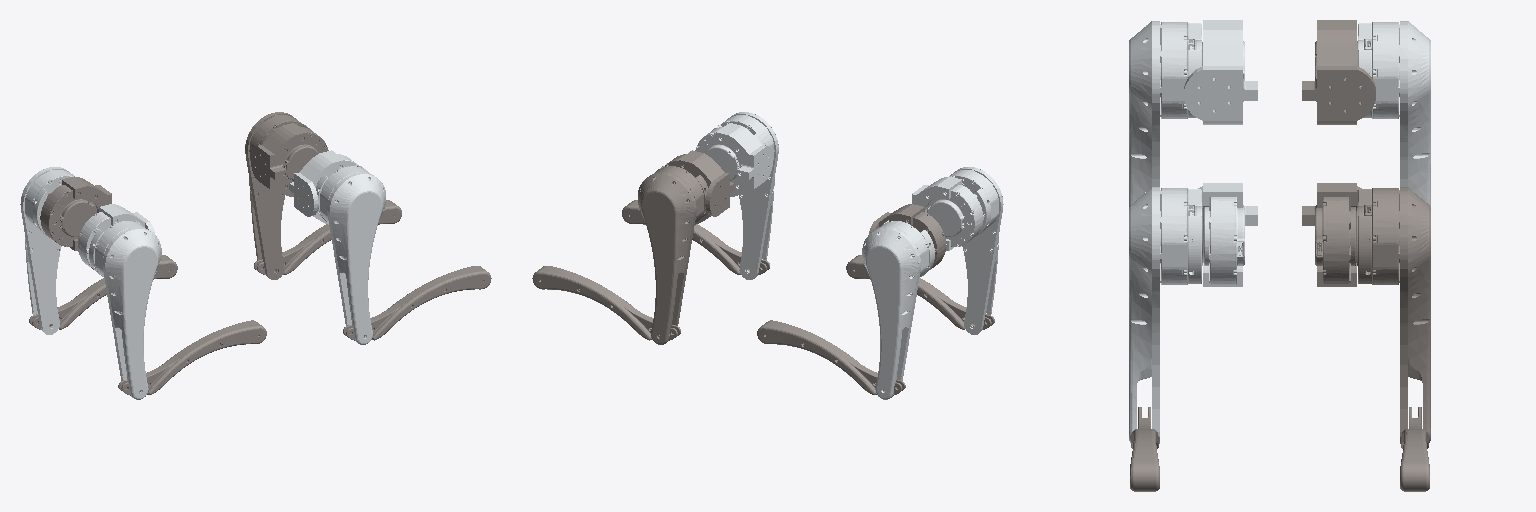
URDF robot description (Creeper):
<?xml version="1.0" encoding="utf-8"?>
<!-- This URDF was automatically created by SolidWorks to URDF Exporter!
     Modified: collision bodies → simplified primitives (Go2-style),
               joint limits/effort/velocity → Go2 motor specs,
               foot/calflower/IMU links added, axes standardized -->
<robot
  name="Creeper">
  <link
    name="base">
    <inertial>
      <origin
        xyz="-0.000212244414229981 3.88098070709172E-05 -0.0204792133764076"
        rpy="0 0 0" />
      <mass
        value="6" />
      <inertia
        ixx="0.012694"
        ixy="7.137E-08"
        ixz="2.603E-05"
        iyy="0.011597"
        iyz="4.755E-07"
        izz="0.017601" />
    </inertial>
    <visual>
      <origin
        xyz="0 0 0"
        rpy="0 0 0" />
      <geometry>
        <mesh
          filename="../meshes/base.stl" />
      </geometry>
      <material
        name="">
        <color
          rgba="0.643137254901961 0.615686274509804 0.6 1" />
      </material>
    </visual>
    <collision>
      <origin rpy="0 0 0" xyz="0 0 -0.01" />
      <geometry>
        <box size="0.27 0.16 0.15" />
      </geometry>
    </collision>
  </link>

  <!-- ===== IMU sensor link ===== -->
  <link
    name="imu">
    <inertial>
      <origin xyz="0 0 0" rpy="0 0 0" />
      <mass value="0" />
      <inertia ixx="0" ixy="0" ixz="0" iyy="0" iyz="0" izz="0" />
    </inertial>
  </link>
  <joint
    name="imu_joint"
    type="fixed">
    <origin xyz="-0.02557 0 0.04232" rpy="0 0 0" />
    <parent link="base" />
    <child link="imu" />
    <axis xyz="0 0 0" />
  </joint>

  <!-- ================================================================ -->
  <!--  FL (Front-Left) leg                                             -->
  <!-- ================================================================ -->
  <link
    name="FL_hip">
    <inertial>
      <origin
        xyz="0.038938 -0.0076948 -6.1766E-05"
        rpy="0 0 0" />
      <mass
        value="0.41199" />
      <inertia
        ixx="0.00036649"
        ixy="5.8308E-06"
        ixz="-3.3371E-07"
        iyy="0.0004868"
        iyz="1.4481E-07"
        izz="0.00024297" />
    </inertial>
    <visual>
      <origin xyz="0 0 0" rpy="0 0 0" />
      <geometry>
        <mesh filename="../meshes/FL_hip.stl" />
      </geometry>
      <material name="">
        <color rgba="0.64314 0.61569 0.6 1" />
      </material>
    </visual>
    <collision>
      <origin rpy="1.5707963267948966 0 0" xyz="0.058 0.03 0" />
      <geometry>
        <cylinder length="0.11" radius="0.049" />
      </geometry>
    </collision>
  </link>
  <joint
    name="FL_hip_joint"
    type="revolute">
    <origin xyz="0.13638 0.065071 -0.01" rpy="0 0 0" />
    <parent link="base" />
    <child link="FL_hip" />
    <axis xyz="1 0 0" />
    <limit lower="-1.0472" upper="1.0472" effort="23.7" velocity="30.1" />
  </joint>

  <link
    name="FL_thigh">
    <inertial>
      <origin
        xyz="-0.00174988623830744 0.0334141902325803 -0.0252666295856852"
        rpy="0 0 0" />
      <mass
        value="0.8" />
      <inertia
        ixx="0.001708"
        ixy="1.180E-06"
        ixz="-3.745E-05"
        iyy="0.002021"
        iyz="1.464E-05"
        izz="0.000352" />
    </inertial>
    <visual>
      <origin xyz="0 0 0" rpy="0 0 0" />
      <geometry>
        <mesh filename="../meshes/FL_thigh.stl" />
      </geometry>
      <material name="">
        <color rgba="0.643137254901961 0.615686274509804 0.6 1" />
      </material>
    </visual>
    <collision>
      <origin rpy="0 1.5707963267948966 0" xyz="-0.01 0.057 -0.12" />
      <geometry>
        <box size="0.15 0.0245 0.04" />
      </geometry>
    </collision>
  </link>
  <joint
    name="FL_thigh_joint"
    type="revolute">
    <origin xyz="0.058 0.0121 0" rpy="0 0 0" />
    <parent link="FL_hip" />
    <child link="FL_thigh" />
    <axis xyz="0 1 0" />
    <limit lower="-1.5708" upper="3.4907" effort="23.7" velocity="30.1" />
  </joint>

  <link
    name="FL_calf">
    <inertial>
      <origin
        xyz="0.00619697508153549 1.10070754946734E-06 -0.120177265320571"
        rpy="0 0 0" />
      <mass
        value="0.11765023931134" />
      <inertia
        ixx="0.000456282026796969"
        ixy="-4.88048522489851E-10"
        ixz="2.48213577761192E-05"
        iyy="0.00046039161098618"
        iyz="-4.52645247293018E-10"
        izz="1.51214343703459E-05" />
    </inertial>
    <visual>
      <origin xyz="0 0 0" rpy="0 0 0" />
      <geometry>
        <mesh filename="../meshes/FL_calf.stl" />
      </geometry>
      <material name="">
        <color rgba="0.643137254901961 0.615686274509804 0.6 1" />
      </material>
    </visual>
    <collision>
      <origin rpy="0 -0.21 0" xyz="0.005 0 -0.06" />
      <geometry>
        <cylinder length="0.12" radius="0.012" />
      </geometry>
    </collision>
  </link>
  <joint
    name="FL_calf_joint"
    type="revolute">
    <origin xyz="0 0.0568 -0.21" rpy="0 0 0" />
    <parent link="FL_thigh" />
    <child link="FL_calf" />
    <axis xyz="0 1 0" />
    <limit lower="-2.7227" upper="-0.83776" effort="23.7" velocity="30.1" />
  </joint>

  <!-- FL calflower (collision filler) -->
  <link name="FL_calflower">
    <collision>
      <origin rpy="0 0 0" xyz="-0.005 0 0" />
      <geometry>
        <cylinder length="0.065" radius="0.011" />
      </geometry>
    </collision>
  </link>
  <joint name="FL_calflower_joint" type="fixed">
    <origin xyz="0.020 0 -0.148" rpy="0 0.05 0" />
    <parent link="FL_calf" />
    <child link="FL_calflower" />
    <axis xyz="0 0 0" />
  </joint>

  <link name="FL_calflower1">
    <collision>
      <origin rpy="0 0 0" xyz="-0.002 0 0" />
      <geometry>
        <cylinder length="0.03" radius="0.012" />
      </geometry>
    </collision>
  </link>
  <joint name="FL_calflower1_joint" type="fixed">
    <origin xyz="-0.01 0 -0.04" rpy="0 0.48 0" />
    <parent link="FL_calflower" />
    <child link="FL_calflower1" />
    <axis xyz="0 0 0" />
  </joint>

  <!-- FL foot -->
  <link name="FL_foot">
    <inertial>
      <origin xyz="0 0 0" rpy="0 0 0" />
      <mass value="0.04" />
      <inertia ixx="9.6e-06" ixy="0" ixz="0" iyy="9.6e-06" iyz="0" izz="9.6e-06" />
    </inertial>
    <collision>
      <origin rpy="0 0 0" xyz="0 0 0.002" />
      <geometry>
        <sphere radius="0.015" />
      </geometry>
    </collision>
  </link>
  <joint name="FL_foot_joint" type="fixed" dont_collapse="true">
    <origin xyz="0 0 -0.213" rpy="0 0 0" />
    <parent link="FL_calf" />
    <child link="FL_foot" />
    <axis xyz="0 0 0" />
  </joint>

  <!-- ================================================================ -->
  <!--  FR (Front-Right) leg                                            -->
  <!-- ================================================================ -->
  <link
    name="FR_hip">
    <inertial>
      <origin
        xyz="0.0389378046069064 0.00769485521689287 3.05325849026677E-05"
        rpy="0 0 0" />
      <mass
        value="0.411991576514315" />
      <inertia
        ixx="0.000366492156844104"
        ixy="-5.83073526194676E-06"
        ixz="3.92121674248006E-07"
        iyy="0.000486798958292856"
        iyz="-8.35259867305297E-08"
        izz="0.000242970374822284" />
    </inertial>
    <visual>
      <origin xyz="0 0 0" rpy="0 0 0" />
      <geometry>
        <mesh filename="../meshes/FR_hip.stl" />
      </geometry>
      <material name="">
        <color rgba="0.898039215686275 0.917647058823529 0.929411764705882 1" />
      </material>
    </visual>
    <collision>
      <origin rpy="1.5707963267948966 0 0" xyz="0.058 -0.03 0" />
      <geometry>
        <cylinder length="0.11" radius="0.049" />
      </geometry>
    </collision>
  </link>
  <joint
    name="FR_hip_joint"
    type="revolute">
    <origin xyz="0.13638 -0.064929 -0.01" rpy="0 0 0" />
    <parent link="base" />
    <child link="FR_hip" />
    <axis xyz="1 0 0" />
    <limit lower="-1.0472" upper="1.0472" effort="23.7" velocity="30.1" />
  </joint>

  <link
    name="FR_thigh">
    <inertial>
      <origin
        xyz="-0.00167929248101809 -0.0334155612413641 -0.0252735252683833"
        rpy="0 0 0" />
      <mass
        value="0.8" />
      <inertia
        ixx="0.001708"
        ixy="-1.089E-06"
        ixz="-3.854E-05"
        iyy="0.002022"
        iyz="-1.464E-05"
        izz="0.000352" />
    </inertial>
    <visual>
      <origin xyz="0 0 0" rpy="0 0 0" />
      <geometry>
        <mesh filename="../meshes/FR_thigh.stl" />
      </geometry>
      <material name="">
        <color rgba="0.898039215686275 0.917647058823529 0.929411764705882 1" />
      </material>
    </visual>
    <collision>
      <origin rpy="0 1.5707963267948966 0" xyz="-0.01 -0.057 -0.12" />
      <geometry>
        <box size="0.15 0.0245 0.04" />
      </geometry>
    </collision>
  </link>
  <joint
    name="FR_thigh_joint"
    type="revolute">
    <origin xyz="0.058 -0.0121 0" rpy="0 0 0" />
    <parent link="FR_hip" />
    <child link="FR_thigh" />
    <axis xyz="0 1 0" />
    <limit lower="-1.5708" upper="3.4907" effort="23.7" velocity="30.1" />
  </joint>

  <link
    name="FR_calf">
    <inertial>
      <origin
        xyz="0.0061969726888931 -1.10377413931051E-06 -0.120177189257783"
        rpy="0 0 0" />
      <mass
        value="0.117650309222684" />
      <inertia
        ixx="0.0004562827679132"
        ixy="4.84662960928166E-10"
        ixz="2.48214041745979E-05"
        iyy="0.000460392352568572"
        iyz="4.76865574298572E-10"
        izz="1.51214350235062E-05" />
    </inertial>
    <visual>
      <origin xyz="0 0 0" rpy="0 0 0" />
      <geometry>
        <mesh filename="../meshes/FR_calf.stl" />
      </geometry>
      <material name="">
        <color rgba="0.643137254901961 0.615686274509804 0.6 1" />
      </material>
    </visual>
    <collision>
      <origin rpy="0 -0.21 0" xyz="0.005 0 -0.06" />
      <geometry>
        <cylinder length="0.12" radius="0.012" />
      </geometry>
    </collision>
  </link>
  <joint
    name="FR_calf_joint"
    type="revolute">
    <origin xyz="0 -0.0568 -0.21" rpy="0 0 0" />
    <parent link="FR_thigh" />
    <child link="FR_calf" />
    <axis xyz="0 1 0" />
    <limit lower="-2.7227" upper="-0.83776" effort="23.7" velocity="30.1" />
  </joint>

  <!-- FR calflower -->
  <link name="FR_calflower">
    <collision>
      <origin rpy="0 0 0" xyz="-0.005 0 0" />
      <geometry>
        <cylinder length="0.065" radius="0.011" />
      </geometry>
    </collision>
  </link>
  <joint name="FR_calflower_joint" type="fixed">
    <origin xyz="0.020 0 -0.148" rpy="0 0.05 0" />
    <parent link="FR_calf" />
    <child link="FR_calflower" />
    <axis xyz="0 0 0" />
  </joint>

  <link name="FR_calflower1">
    <collision>
      <origin rpy="0 0 0" xyz="-0.002 0 0" />
      <geometry>
        <cylinder length="0.03" radius="0.012" />
      </geometry>
    </collision>
  </link>
  <joint name="FR_calflower1_joint" type="fixed">
    <origin xyz="-0.01 0 -0.04" rpy="0 0.48 0" />
    <parent link="FR_calflower" />
    <child link="FR_calflower1" />
    <axis xyz="0 0 0" />
  </joint>

  <!-- FR foot -->
  <link name="FR_foot">
    <inertial>
      <origin xyz="0 0 0" rpy="0 0 0" />
      <mass value="0.04" />
      <inertia ixx="9.6e-06" ixy="0" ixz="0" iyy="9.6e-06" iyz="0" izz="9.6e-06" />
    </inertial>
    <collision>
      <origin rpy="0 0 0" xyz="0 0 0.002" />
      <geometry>
        <sphere radius="0.015" />
      </geometry>
    </collision>
  </link>
  <joint name="FR_foot_joint" type="fixed" dont_collapse="true">
    <origin xyz="0 0 -0.213" rpy="0 0 0" />
    <parent link="FR_calf" />
    <child link="FR_foot" />
    <axis xyz="0 0 0" />
  </joint>

  <!-- ================================================================ -->
  <!--  RL (Rear-Left) leg                                              -->
  <!-- ================================================================ -->
  <link
    name="RL_hip">
    <inertial>
      <origin
        xyz="-0.038937810299973 -0.00769484868849819 6.17126607220103E-05"
        rpy="0 0 0" />
      <mass
        value="0.41199147932188" />
      <inertia
        ixx="0.000366492073759701"
        ixy="-5.83075070239802E-06"
        ixz="-3.33711023258187E-07"
        iyy="0.000486798931502359"
        iyz="-1.44806770066763E-07"
        izz="0.000242970268883929" />
    </inertial>
    <visual>
      <origin xyz="0 0 0" rpy="0 0 0" />
      <geometry>
        <mesh filename="../meshes/RL_hip.stl" />
      </geometry>
      <material name="">
        <color rgba="0.643137254901961 0.615686274509804 0.6 1" />
      </material>
    </visual>
    <collision>
      <origin rpy="1.5707963267948966 0 0" xyz="-0.058 0.03 0" />
      <geometry>
        <cylinder length="0.11" radius="0.049" />
      </geometry>
    </collision>
  </link>
  <joint
    name="RL_hip_joint"
    type="revolute">
    <origin xyz="-0.13682 0.065071 -0.01" rpy="0 0 0" />
    <parent link="base" />
    <child link="RL_hip" />
    <axis xyz="1 0 0" />
    <limit lower="-1.0472" upper="1.0472" effort="23.7" velocity="30.1" />
  </joint>

  <link
    name="RL_thigh">
    <inertial>
      <origin
        xyz="-0.00174988623832364 0.033414190232564 -0.0252666295856632"
        rpy="0 0 0" />
      <mass
        value="0.8" />
      <inertia
        ixx="0.001708"
        ixy="1.180E-06"
        ixz="-3.745E-05"
        iyy="0.002021"
        iyz="1.464E-05"
        izz="0.000352" />
    </inertial>
    <visual>
      <origin xyz="0 0 0" rpy="0 0 0" />
      <geometry>
        <mesh filename="../meshes/RL_thigh.stl" />
      </geometry>
      <material name="">
        <color rgba="0.898039215686275 0.917647058823529 0.929411764705882 1" />
      </material>
    </visual>
    <collision>
      <origin rpy="0 1.5707963267948966 0" xyz="-0.01 0.057 -0.12" />
      <geometry>
        <box size="0.15 0.0245 0.04" />
      </geometry>
    </collision>
  </link>
  <joint
    name="RL_thigh_joint"
    type="revolute">
    <origin xyz="-0.058 0.0121 0" rpy="0 0 0" />
    <parent link="RL_hip" />
    <child link="RL_thigh" />
    <axis xyz="0 1 0" />
    <limit lower="-0.5236" upper="4.5379" effort="23.7" velocity="30.1" />
  </joint>

  <link
    name="RL_calf">
    <inertial>
      <origin
        xyz="0.00619697508153547 1.10070754880121E-06 -0.120177265320571"
        rpy="0 0 0" />
      <mass
        value="0.117650239311341" />
      <inertia
        ixx="0.000456282026796969"
        ixy="-4.88048522358862E-10"
        ixz="2.4821357776119E-05"
        iyy="0.00046039161098618"
        iyz="-4.52645249948673E-10"
        izz="1.5121434370344E-05" />
    </inertial>
    <visual>
      <origin xyz="0 0 0" rpy="0 0 0" />
      <geometry>
        <mesh filename="../meshes/RL_calf.stl" />
      </geometry>
      <material name="">
        <color rgba="0.643137254901961 0.615686274509804 0.6 1" />
      </material>
    </visual>
    <collision>
      <origin rpy="0 -0.21 0" xyz="0.005 0 -0.06" />
      <geometry>
        <cylinder length="0.12" radius="0.012" />
      </geometry>
    </collision>
  </link>
  <joint
    name="RL_calf_joint"
    type="revolute">
    <origin xyz="0 0.0568 -0.21" rpy="0 0 0" />
    <parent link="RL_thigh" />
    <child link="RL_calf" />
    <axis xyz="0 1 0" />
    <limit lower="-2.7227" upper="-0.83776" effort="23.7" velocity="30.1" />
  </joint>

  <!-- RL calflower -->
  <link name="RL_calflower">
    <collision>
      <origin rpy="0 0 0" xyz="-0.005 0 0" />
      <geometry>
        <cylinder length="0.065" radius="0.011" />
      </geometry>
    </collision>
  </link>
  <joint name="RL_calflower_joint" type="fixed">
    <origin xyz="0.020 0 -0.148" rpy="0 0.05 0" />
    <parent link="RL_calf" />
    <child link="RL_calflower" />
    <axis xyz="0 0 0" />
  </joint>

  <link name="RL_calflower1">
    <collision>
      <origin rpy="0 0 0" xyz="-0.002 0 0" />
      <geometry>
        <cylinder length="0.03" radius="0.012" />
      </geometry>
    </collision>
  </link>
  <joint name="RL_calflower1_joint" type="fixed">
    <origin xyz="-0.01 0 -0.04" rpy="0 0.48 0" />
    <parent link="RL_calflower" />
    <child link="RL_calflower1" />
    <axis xyz="0 0 0" />
  </joint>

  <!-- RL foot -->
  <link name="RL_foot">
    <inertial>
      <origin xyz="0 0 0" rpy="0 0 0" />
      <mass value="0.04" />
      <inertia ixx="9.6e-06" ixy="0" ixz="0" iyy="9.6e-06" iyz="0" izz="9.6e-06" />
    </inertial>
    <collision>
      <origin rpy="0 0 0" xyz="0 0 0.002" />
      <geometry>
        <sphere radius="0.015" />
      </geometry>
    </collision>
  </link>
  <joint name="RL_foot_joint" type="fixed" dont_collapse="true">
    <origin xyz="0 0 -0.213" rpy="0 0 0" />
    <parent link="RL_calf" />
    <child link="RL_foot" />
    <axis xyz="0 0 0" />
  </joint>

  <!-- ================================================================ -->
  <!--  RR (Rear-Right) leg                                             -->
  <!-- ================================================================ -->
  <link
    name="RR_hip">
    <inertial>
      <origin
        xyz="-0.0389378046069063 0.00769485521689282 -3.05325849029314E-05"
        rpy="0 0 0" />
      <mass
        value="0.411991576514313" />
      <inertia
        ixx="0.000366492156844105"
        ixy="5.8307352619467E-06"
        ixz="3.9212167424829E-07"
        iyy="0.000486798958292857"
        iyz="8.3525986730265E-08"
        izz="0.000242970374822284" />
    </inertial>
    <visual>
      <origin xyz="0 0 0" rpy="0 0 0" />
      <geometry>
        <mesh filename="../meshes/RR_hip.stl" />
      </geometry>
      <material name="">
        <color rgba="0.898039215686275 0.917647058823529 0.929411764705882 1" />
      </material>
    </visual>
    <collision>
      <origin rpy="1.5707963267948966 0 0" xyz="-0.058 -0.03 0" />
      <geometry>
        <cylinder length="0.11" radius="0.049" />
      </geometry>
    </collision>
  </link>
  <joint
    name="RR_hip_joint"
    type="revolute">
    <origin xyz="-0.13682 -0.064929 -0.01" rpy="0 0 0" />
    <parent link="base" />
    <child link="RR_hip" />
    <axis xyz="1 0 0" />
    <limit lower="-1.0472" upper="1.0472" effort="23.7" velocity="30.1" />
  </joint>

  <link
    name="RR_thigh">
    <inertial>
      <origin
        xyz="-0.00167929248101908 -0.0334155612413654 -0.0252735252683849"
        rpy="0 0 0" />
      <mass
        value="0.8" />
      <inertia
        ixx="0.001708"
        ixy="-1.089E-06"
        ixz="-3.854E-05"
        iyy="0.002022"
        iyz="-1.464E-05"
        izz="0.000352" />
    </inertial>
    <visual>
      <origin xyz="0 0 0" rpy="0 0 0" />
      <geometry>
        <mesh filename="../meshes/RR_thigh.stl" />
      </geometry>
      <material name="">
        <color rgba="0.898039215686275 0.917647058823529 0.929411764705882 1" />
      </material>
    </visual>
    <collision>
      <origin rpy="0 1.5707963267948966 0" xyz="-0.01 -0.057 -0.12" />
      <geometry>
        <box size="0.15 0.0245 0.04" />
      </geometry>
    </collision>
  </link>
  <joint
    name="RR_thigh_joint"
    type="revolute">
    <origin xyz="-0.058 -0.0121 0" rpy="0 0 0" />
    <parent link="RR_hip" />
    <child link="RR_thigh" />
    <axis xyz="0 1 0" />
    <limit lower="-0.5236" upper="4.5379" effort="23.7" velocity="30.1" />
  </joint>

  <link
    name="RR_calf">
    <inertial>
      <origin
        xyz="0.00619697268889333 -1.10377413906071E-06 -0.120177189257783"
        rpy="0 0 0" />
      <mass
        value="0.117650309222685" />
      <inertia
        ixx="0.0004562827679132"
        ixy="4.8466296084439E-10"
        ixz="2.48214041745977E-05"
        iyy="0.00046039235256857"
        iyz="4.76865575378296E-10"
        izz="1.51214350235028E-05" />
    </inertial>
    <visual>
      <origin xyz="0 0 0" rpy="0 0 0" />
      <geometry>
        <mesh filename="../meshes/RR_calf.stl" />
      </geometry>
      <material name="">
        <color rgba="0.643137254901961 0.615686274509804 0.6 1" />
      </material>
    </visual>
    <collision>
      <origin rpy="0 -0.21 0" xyz="0.005 0 -0.06" />
      <geometry>
        <cylinder length="0.12" radius="0.012" />
      </geometry>
    </collision>
  </link>
  <joint
    name="RR_calf_joint"
    type="revolute">
    <origin xyz="0 -0.0568 -0.21" rpy="0 0 0" />
    <parent link="RR_thigh" />
    <child link="RR_calf" />
    <axis xyz="0 1 0" />
    <limit lower="-2.7227" upper="-0.83776" effort="23.7" velocity="30.1" />
  </joint>

  <!-- RR calflower -->
  <link name="RR_calflower">
    <collision>
      <origin rpy="0 0 0" xyz="-0.005 0 0" />
      <geometry>
        <cylinder length="0.065" radius="0.011" />
      </geometry>
    </collision>
  </link>
  <joint name="RR_calflower_joint" type="fixed">
    <origin xyz="0.020 0 -0.148" rpy="0 0.05 0" />
    <parent link="RR_calf" />
    <child link="RR_calflower" />
    <axis xyz="0 0 0" />
  </joint>

  <link name="RR_calflower1">
    <collision>
      <origin rpy="0 0 0" xyz="-0.002 0 0" />
      <geometry>
        <cylinder length="0.03" radius="0.012" />
      </geometry>
    </collision>
  </link>
  <joint name="RR_calflower1_joint" type="fixed">
    <origin xyz="-0.01 0 -0.04" rpy="0 0.48 0" />
    <parent link="RR_calflower" />
    <child link="RR_calflower1" />
    <axis xyz="0 0 0" />
  </joint>

  <!-- RR foot -->
  <link name="RR_foot">
    <inertial>
      <origin xyz="0 0 0" rpy="0 0 0" />
      <mass value="0.04" />
      <inertia ixx="9.6e-06" ixy="0" ixz="0" iyy="9.6e-06" iyz="0" izz="9.6e-06" />
    </inertial>
    <collision>
      <origin rpy="0 0 0" xyz="0 0 0.002" />
      <geometry>
        <sphere radius="0.015" />
      </geometry>
    </collision>
  </link>
  <joint name="RR_foot_joint" type="fixed" dont_collapse="true">
    <origin xyz="0 0 -0.213" rpy="0 0 0" />
    <parent link="RR_calf" />
    <child link="RR_foot" />
    <axis xyz="0 0 0" />
  </joint>

</robot>

--- Render facts (derived) ---
The picture shows the robot from 3 angles, left to right: view 1: azimuth 30°, elevation 25°; view 2: azimuth 150°, elevation 25°; view 3: azimuth 270°, elevation 25°; orthographic projection.
Model Creeper with 26 links and 25 joints (12 revolute, 13 fixed), rooted at base, posed joints at zero except 4 at the middle of their limits (FL_calf_joint = -1.78, FR_calf_joint = -1.78, RL_calf_joint = -1.78, RR_calf_joint = -1.78).
Visible links, largest first — view 1: RR_thigh, FR_thigh, RL_thigh, FL_thigh, FL_hip, RL_hip, FR_calf, RR_calf, FR_hip, RL_calf, FL_calf, RR_hip; view 2: RL_thigh, FL_thigh, RR_thigh, FR_thigh, FR_hip, RR_hip, FL_calf, RL_calf, FL_hip, RR_calf, FR_calf, RL_hip; view 3: FL_thigh, FR_thigh, RR_thigh, RL_thigh, RL_hip, RR_hip, FL_hip, FR_hip, FL_calf, FR_calf.
Link boxes in pixels (<box>): RR_thigh: <box>89,220,161,399</box>; FR_thigh: <box>316,166,385,344</box>; RL_thigh: <box>20,167,73,334</box>; FL_thigh: <box>245,112,310,279</box>; FL_hip: <box>251,123,328,196</box>; RL_hip: <box>40,176,111,250</box>; FR_calf: <box>343,266,491,340</box>; RR_calf: <box>118,320,266,395</box>; FR_hip: <box>289,150,358,224</box>; RL_calf: <box>29,255,177,329</box>; FL_calf: <box>254,200,401,274</box>; RR_hip: <box>78,204,154,269</box>; RL_thigh: <box>862,220,934,399</box>; FL_thigh: <box>638,166,707,344</box>; RR_thigh: <box>950,167,1003,334</box>; FR_thigh: <box>713,112,778,279</box>; FR_hip: <box>695,123,772,196</box>; RR_hip: <box>912,176,983,250</box>; FL_calf: <box>532,266,680,340</box>; RL_calf: <box>757,320,905,395</box>; FL_hip: <box>665,150,734,224</box>; RR_calf: <box>846,255,994,329</box>; FR_calf: <box>622,200,769,274</box>; RL_hip: <box>869,204,945,269</box>; FL_thigh: <box>1358,187,1430,443</box>; FR_thigh: <box>1129,187,1201,443</box>; RR_thigh: <box>1129,21,1201,206</box>; RL_thigh: <box>1358,21,1430,206</box>; RL_hip: <box>1302,20,1375,124</box>; RR_hip: <box>1184,20,1257,124</box>; FL_hip: <box>1302,183,1361,286</box>; FR_hip: <box>1198,183,1257,286</box>; FL_calf: <box>1400,407,1429,491</box>; FR_calf: <box>1130,407,1159,491</box>.
Size in the robot's own frame: 0.6586 by 0.299 by 0.2765 metres.
Meshes: 13 distinct files referenced, 12 mesh visuals loaded (12 binary STL); not drawn: 1 (reference not matched to a file when rendering).
